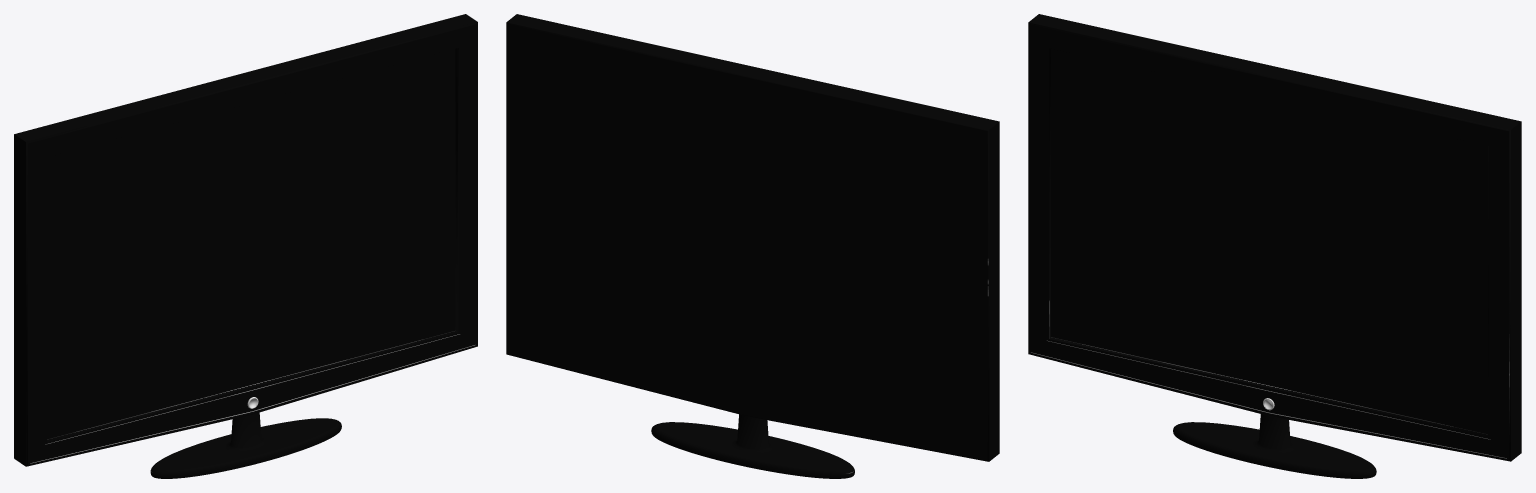
The picture shows the model from 3 angles, left to right: view 1: azimuth 30°, elevation 25°; view 2: azimuth 150°, elevation 25°; view 3: azimuth 330°, elevation 25°; orthographic projection. The views are drawn at different scales.
Visible parts, largest first — view 1: TV with Stand; view 2: TV with Stand; view 3: TV with Stand.
Boxes of the visible parts, x1,y1,x2,y2 form: TV with Stand: (14,14,477,478); TV with Stand: (506,14,999,478); TV with Stand: (1028,14,1521,478).
Size of the model in its own units: 0.256 by 0.1976 by 0.0291.
1 material, 1 textured.
